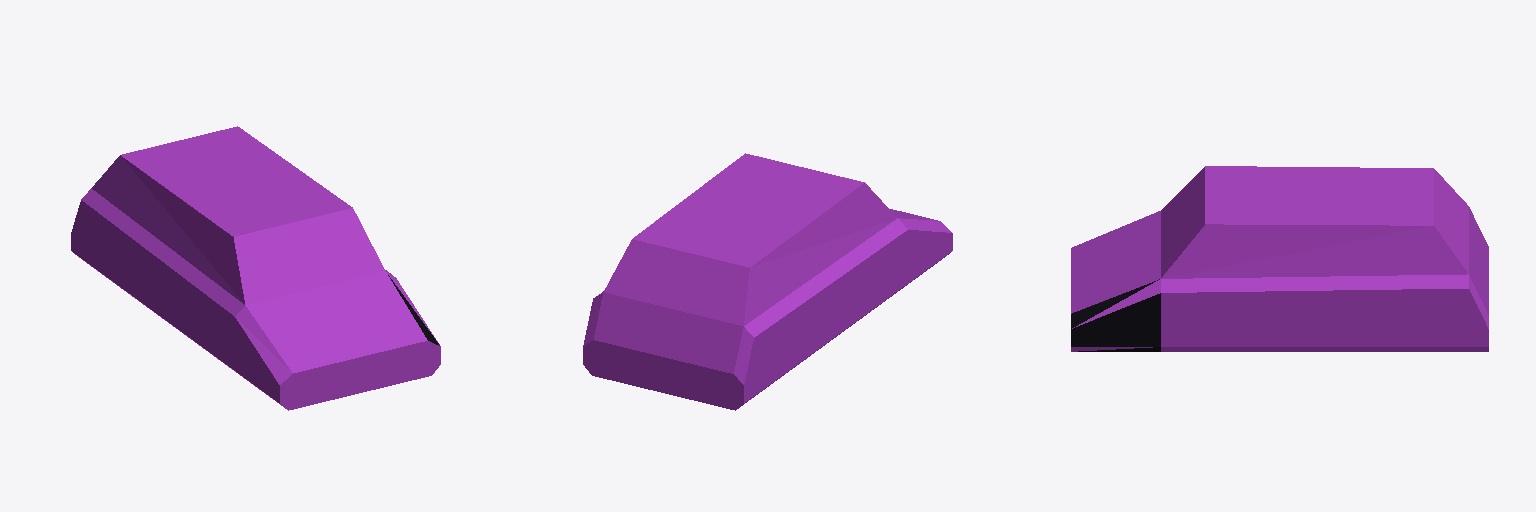
The model's file is vehicle_hatchback_simple.obj.
3 renders of one model, left to right at view 1: azimuth 30°, elevation 25°; view 2: azimuth 150°, elevation 25°; view 3: azimuth 270°, elevation 25°, orthographic.
Size of the model in its own units: 1.87 by 1.35 by 4.2.